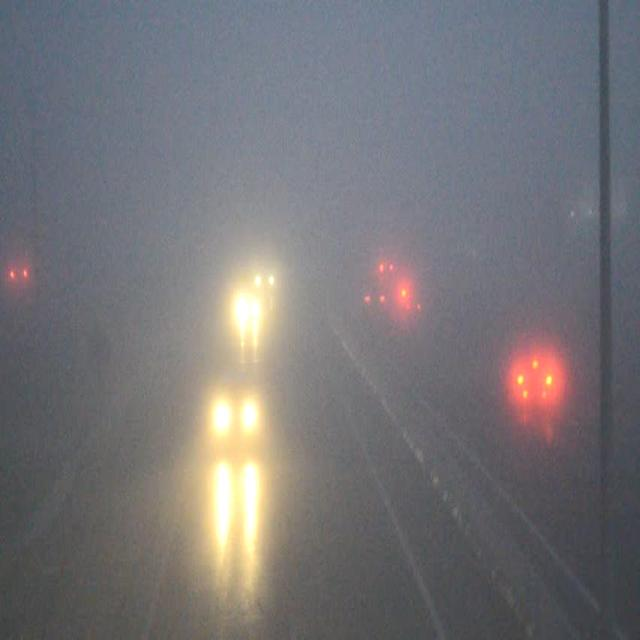Car: (211, 359, 270, 454), (507, 336, 564, 426), (246, 228, 289, 311), (230, 281, 272, 347), (358, 266, 397, 337)
